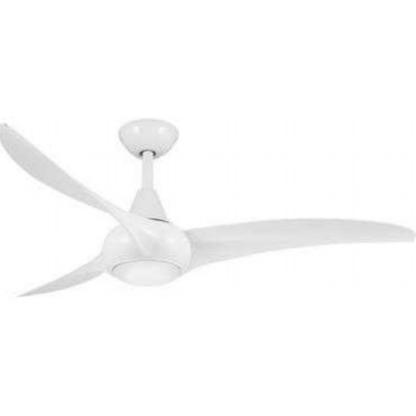ceiling-fan: (0, 117, 415, 297)
